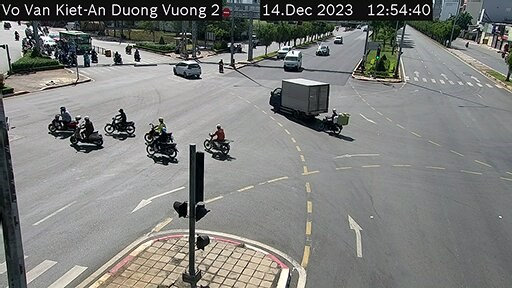car: (168, 60, 198, 85), (312, 43, 329, 56)
motorbike: (199, 119, 237, 155), (70, 112, 101, 146), (48, 103, 80, 131), (319, 105, 350, 133), (107, 107, 134, 137), (144, 131, 174, 157), (146, 107, 169, 133)
truck: (263, 73, 335, 115)
